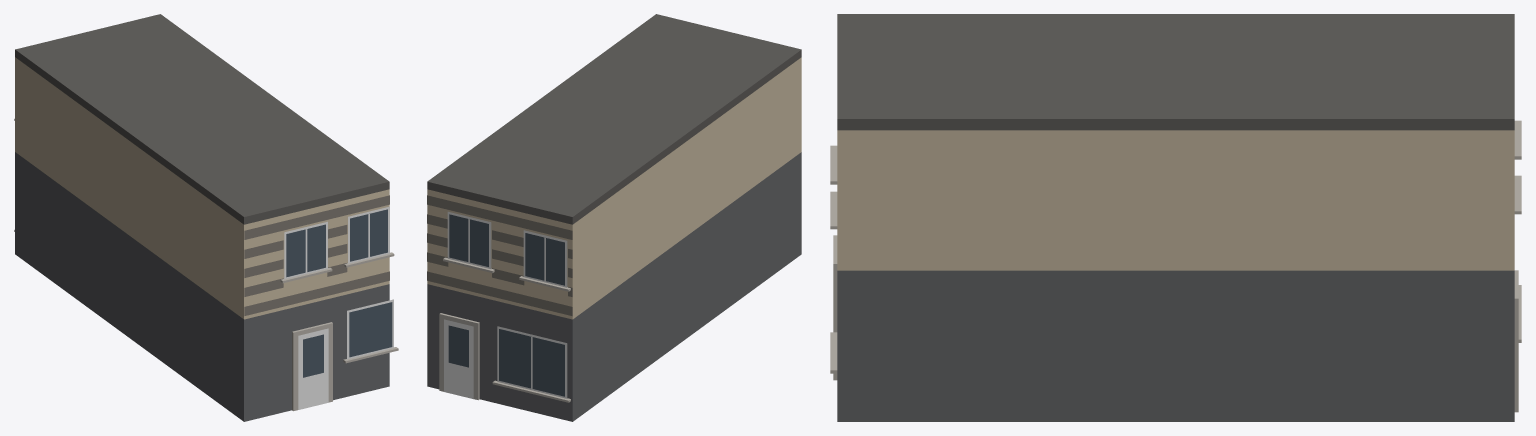
The model's file is nd-tw-flat__striped__2__flat__long__solid.glb.
The picture shows the model from 3 angles, left to right: view 1: azimuth 30°, elevation 25°; view 2: azimuth 150°, elevation 25°; view 3: azimuth 270°, elevation 25°; orthographic projection. The views are drawn at different scales.
Parts seen in each view (by area): view 1: nd-tw-flat__striped__2__flat__long__solid; view 2: nd-tw-flat__striped__2__flat__long__solid; view 3: nd-tw-flat__striped__2__flat__long__solid.
Boxes of the visible parts, x1=… form: nd-tw-flat__striped__2__flat__long__solid: x1=14, y1=14, x2=398, y2=421; nd-tw-flat__striped__2__flat__long__solid: x1=427, y1=14, x2=801, y2=421; nd-tw-flat__striped__2__flat__long__solid: x1=830, y1=14, x2=1521, y2=421.
Bounding box in the file's own units: 4.6 × 5.92 × 12.24.
